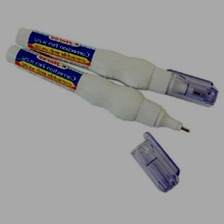correction_fluid: (3, 39, 192, 134), (13, 25, 219, 109)
